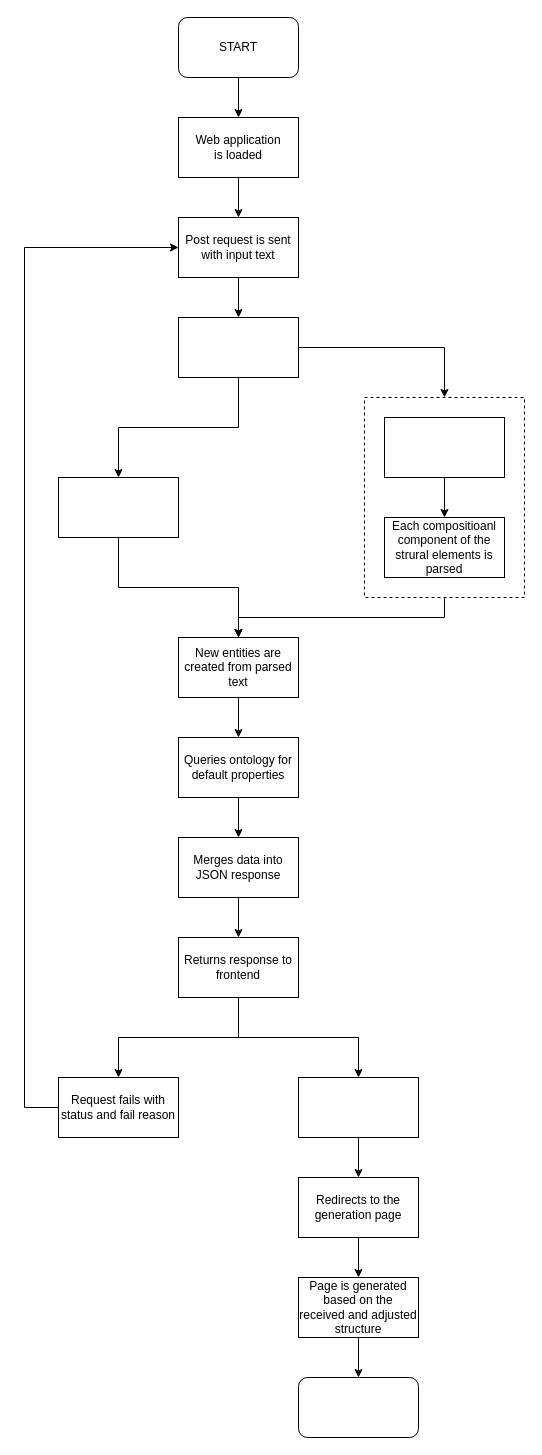
This 542x1455 diagram has some shape labels left out. The centre of each missing label's shape, as x and y in pixels:
FINISH: pixel 358 1407
Input text is splitted by structural components: pixel 238 347
Request response is adjusted to match existing structures: pixel 358 1107
Structural components are parsed: pixel 444 447
Validates input text: pixel 118 507
